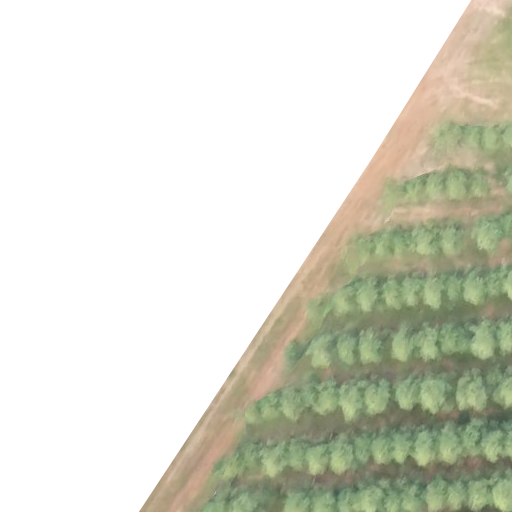eucalipto: (453, 370, 489, 413), (336, 381, 364, 425), (327, 435, 355, 478), (354, 328, 385, 366), (467, 322, 497, 361), (411, 325, 440, 364), (419, 380, 453, 413), (472, 219, 504, 253), (436, 223, 466, 259), (363, 380, 391, 418), (304, 336, 337, 368), (410, 431, 437, 469), (308, 386, 339, 419), (282, 386, 308, 425), (262, 439, 286, 478), (459, 276, 488, 308), (439, 422, 461, 464), (354, 278, 380, 313), (413, 227, 443, 257), (304, 444, 329, 480), (438, 323, 467, 354), (462, 417, 483, 459), (444, 169, 469, 204), (215, 450, 244, 480), (379, 276, 403, 311), (286, 436, 307, 476), (457, 124, 484, 155), (433, 122, 459, 153), (335, 335, 360, 367), (390, 329, 413, 363), (467, 481, 492, 511), (421, 280, 445, 311), (394, 380, 418, 411), (390, 433, 413, 465), (331, 286, 356, 315), (389, 227, 413, 257), (424, 481, 447, 512), (423, 173, 446, 203), (369, 436, 392, 466), (492, 478, 512, 512), (488, 272, 512, 300), (483, 428, 502, 463), (259, 393, 281, 423), (492, 378, 512, 410), (351, 434, 373, 463), (336, 488, 362, 512), (362, 483, 383, 512), (401, 279, 421, 309), (310, 488, 335, 512), (447, 481, 466, 512), (469, 173, 490, 201), (481, 127, 503, 153), (497, 321, 512, 359), (375, 229, 393, 260), (402, 178, 423, 204), (283, 491, 309, 512), (401, 491, 427, 512), (231, 491, 256, 512), (446, 277, 462, 305), (244, 399, 260, 426), (383, 490, 401, 512)
